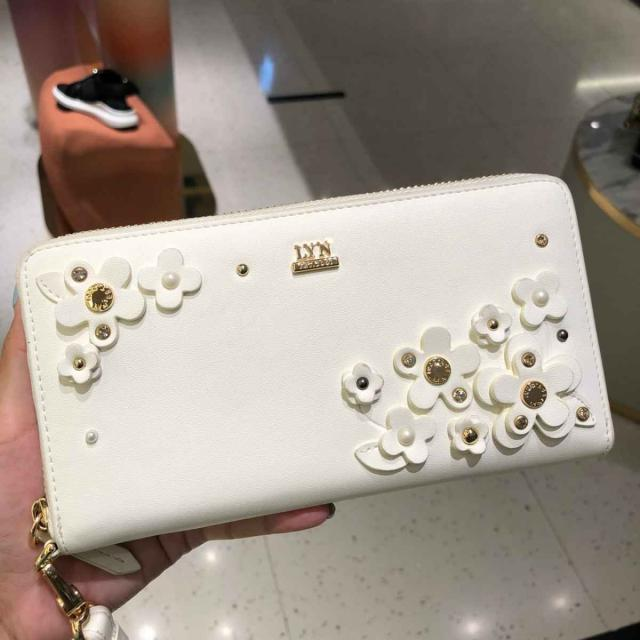Handbag: (25, 172, 615, 557)
